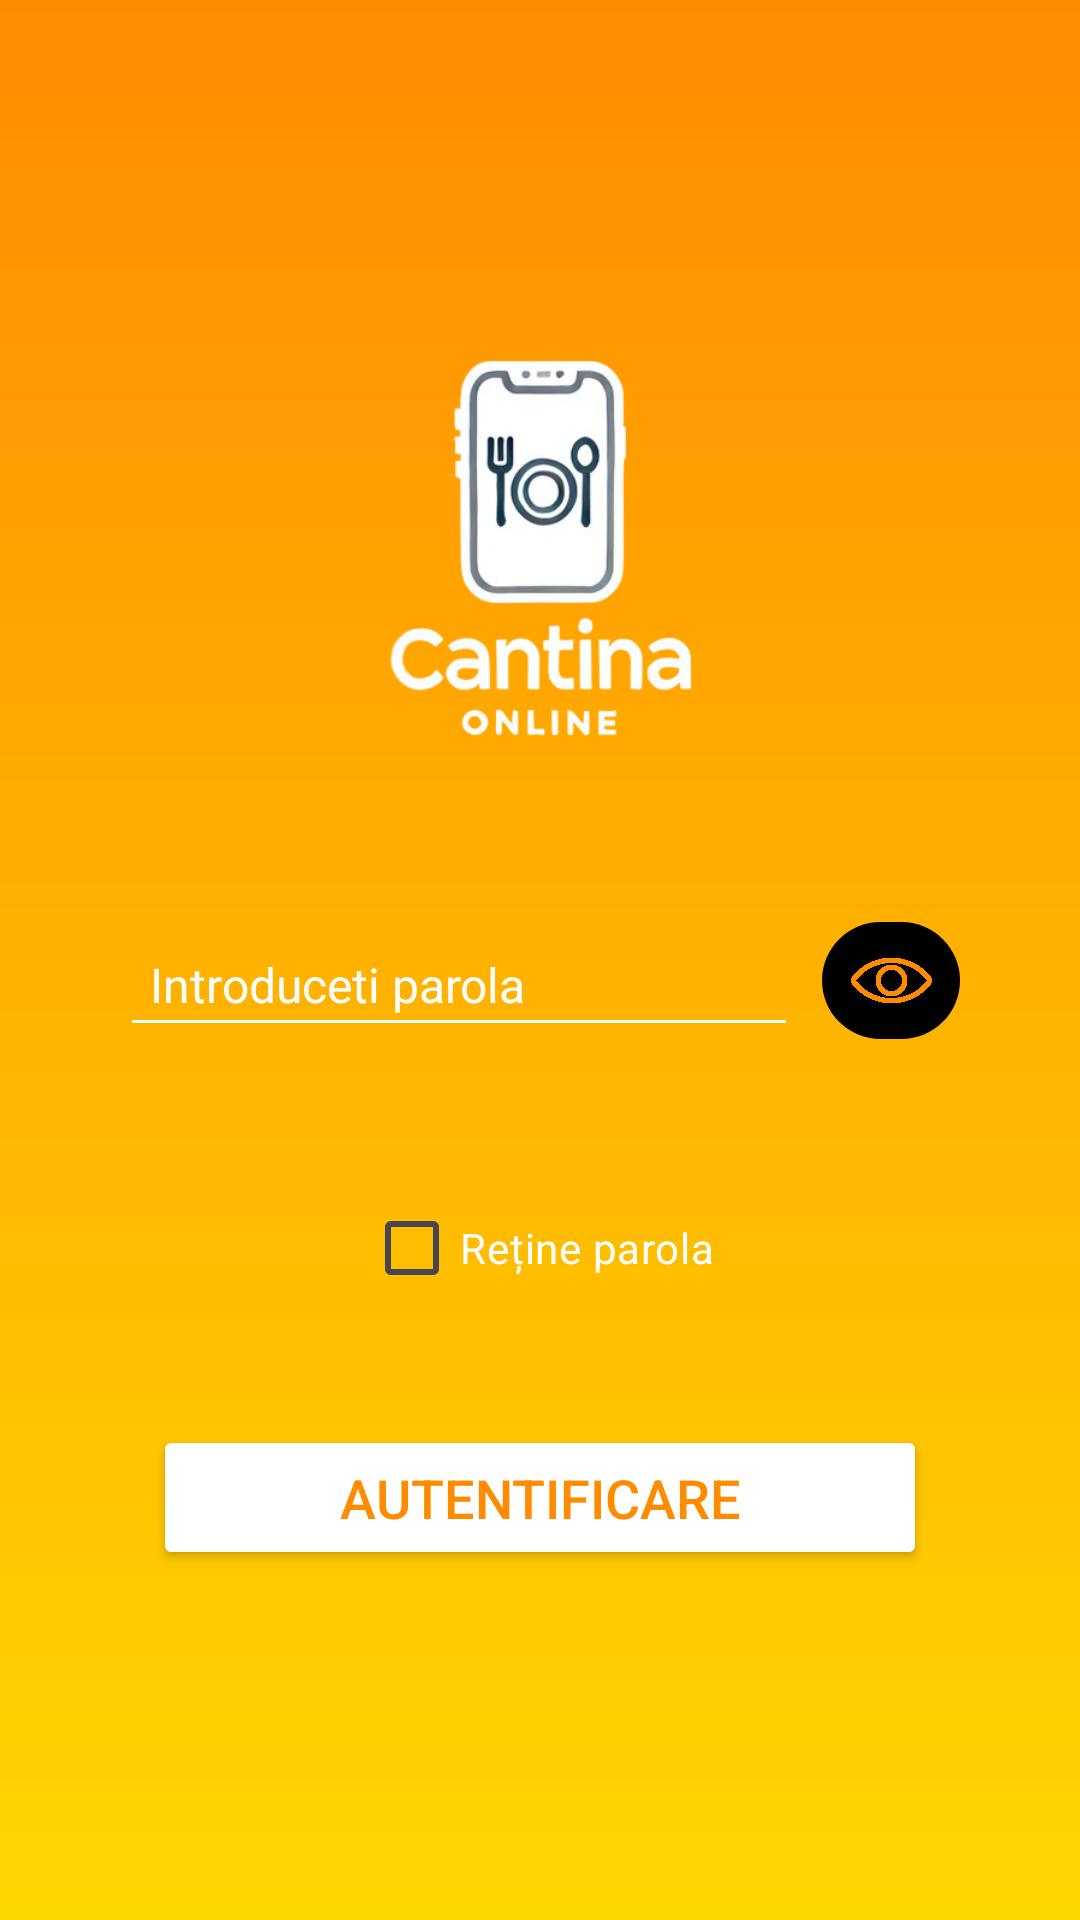

Named icons in this screenshot (1080w x 1920h) and their bounding boxes, [x1=x1, y1=y1, x2=x2, y2=y2]:
eye: [x1=822, y1=922, x2=960, y2=1039]
